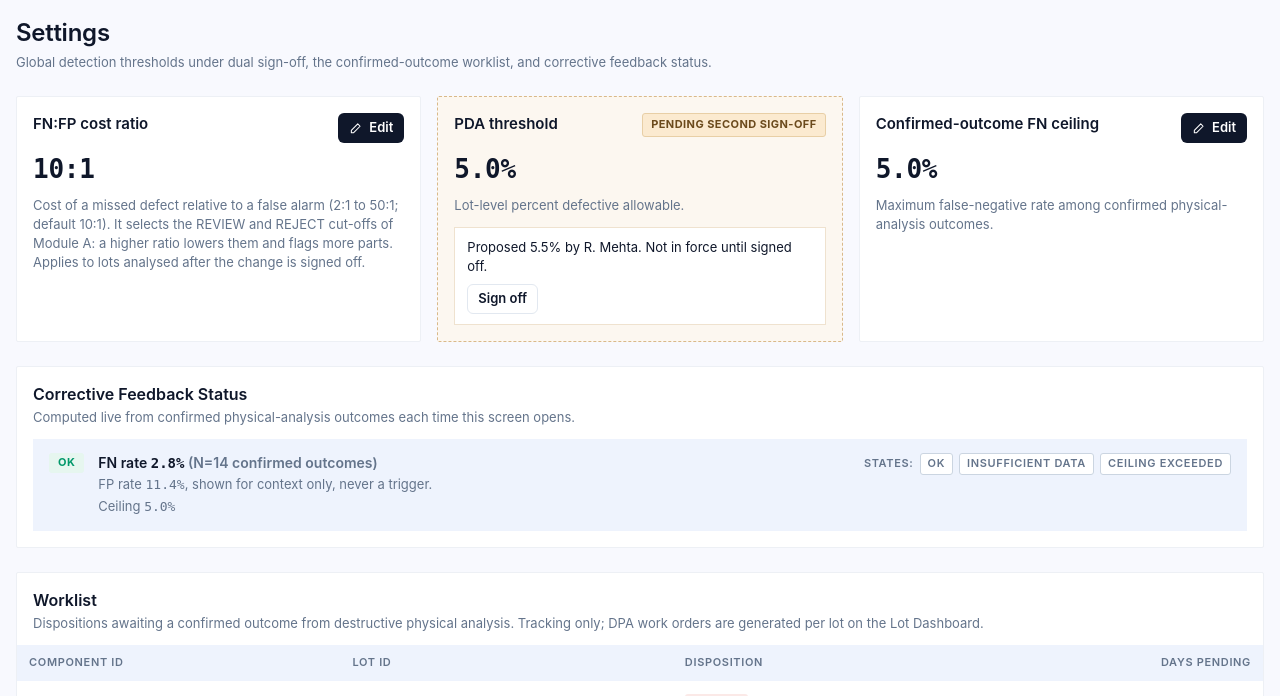
SettingsScreen (E6 screen 7) › rejects abc before sending anything
Check: the element "FN:FP cost ratio" is shown, box [16, 96, 421, 342]
Check: the text "10:1" is shown, box [33, 154, 95, 184]
Step 1. Click the button "Edit" in the row of "FN:FP cost ratio" → (371, 128), box [338, 113, 404, 143]
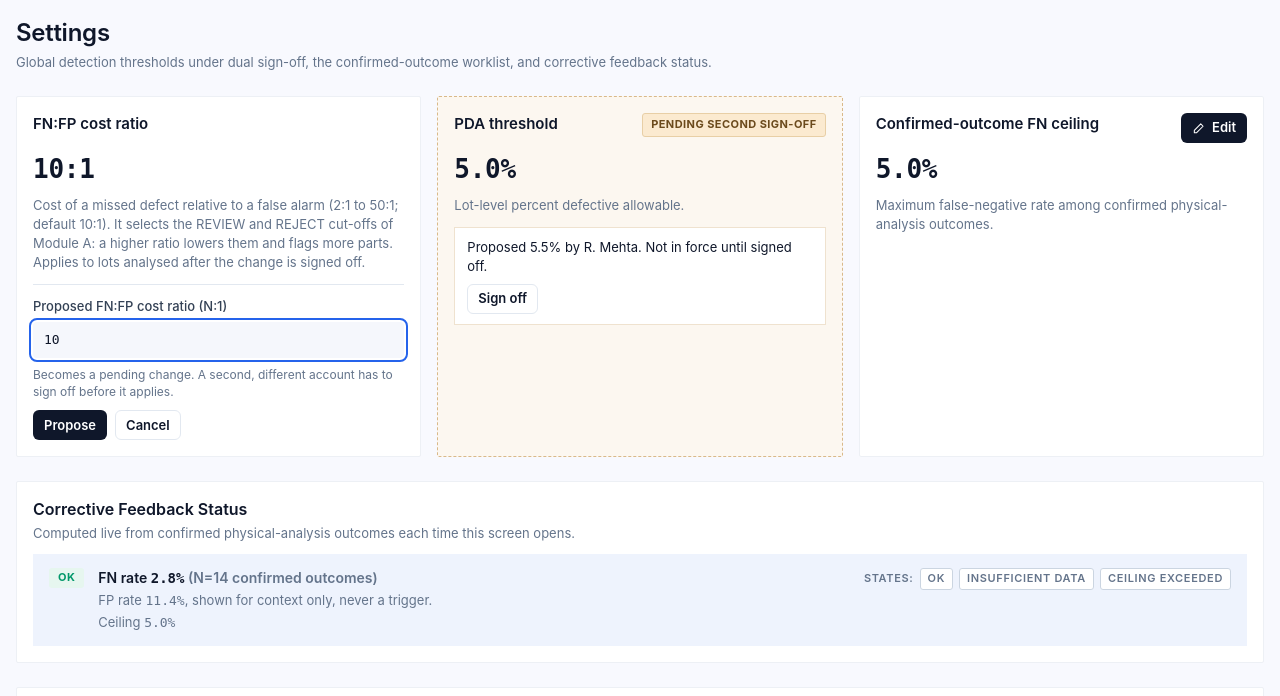
Step 2. Replace the text in the field with "abc" → (219, 340), box [33, 322, 404, 358]
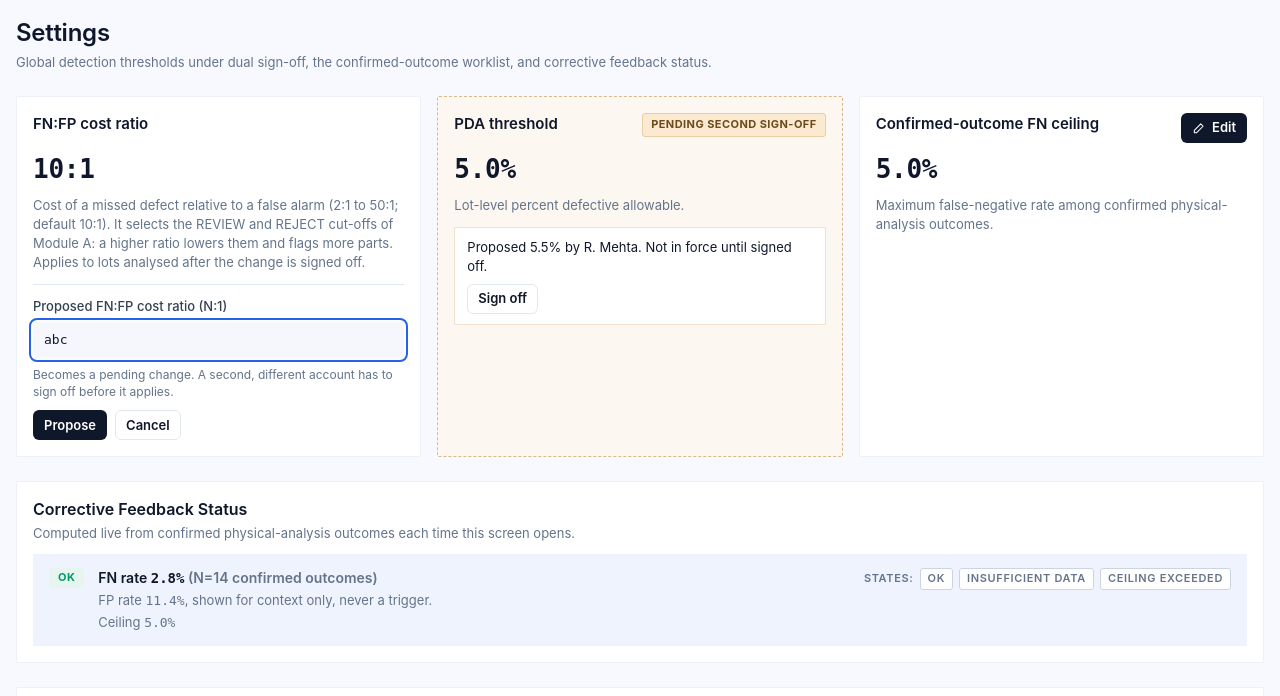
Step 3. Click the button "Propose" → (70, 425), box [33, 410, 107, 440]
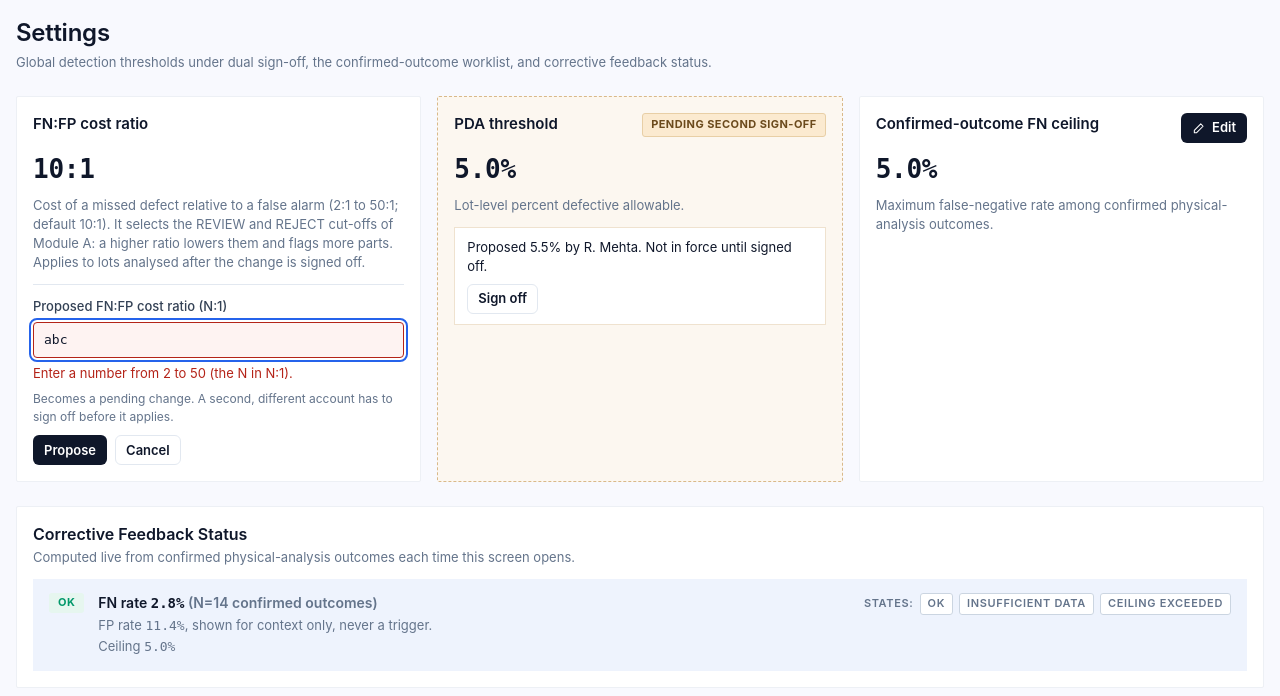
Check: the message "Enter a number from 2 to 50 (the N in N:1)." is shown, box [33, 364, 293, 380]
